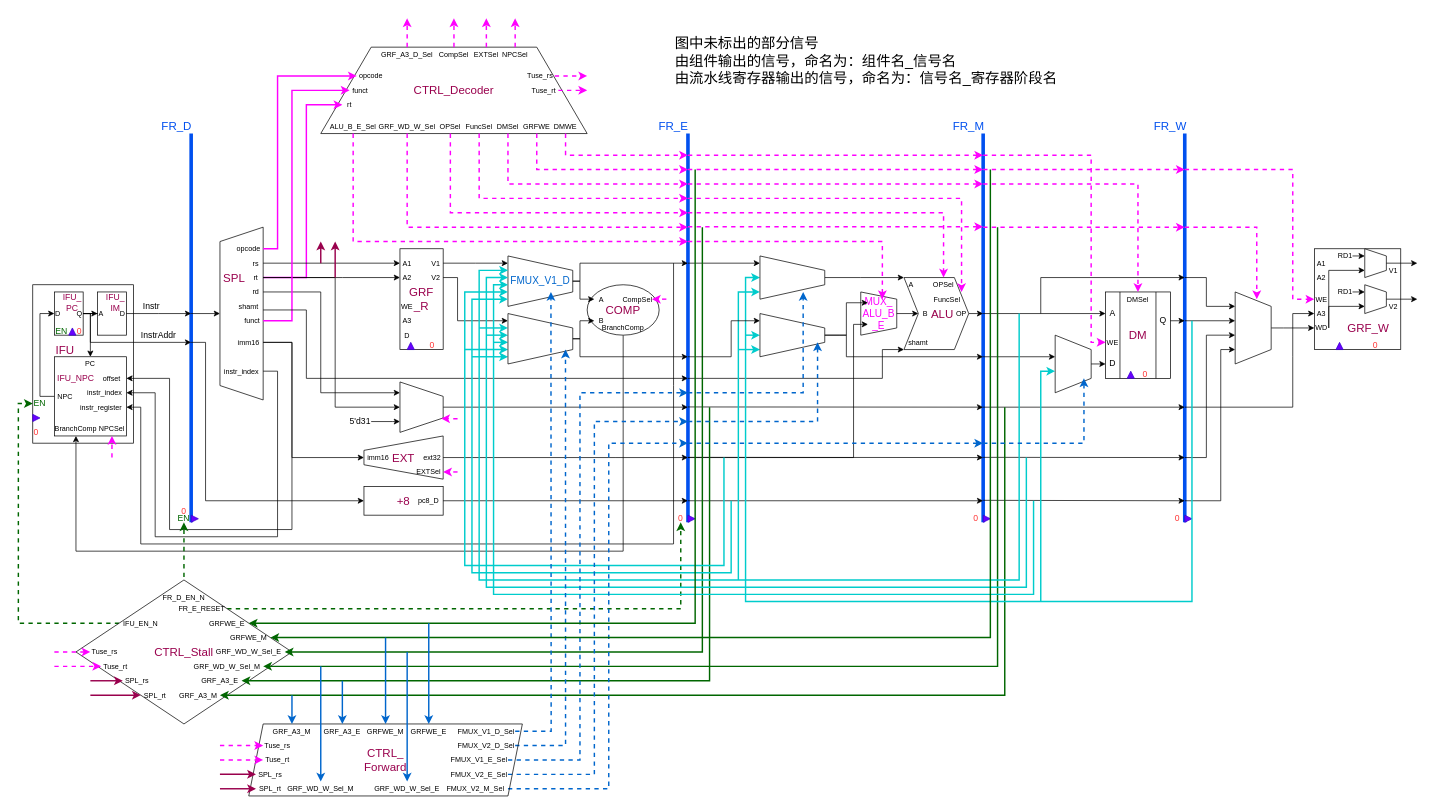
Image size: 1436x809. Some labels were removed from this diagram. Each missing label, with the centre of its shape:
"FMUX_ DM_D _M" goes at point (1072, 363).
"FMUX_V1_E" goes at point (792, 277).
"FMUX_V2_D" goes at point (540, 338).
"FMUX_V2_E" goes at point (792, 335).
"MUX_ GRF_ WD_W" goes at point (1252, 327).
"MUX_ GRF_A3 _D" goes at point (421, 406).
